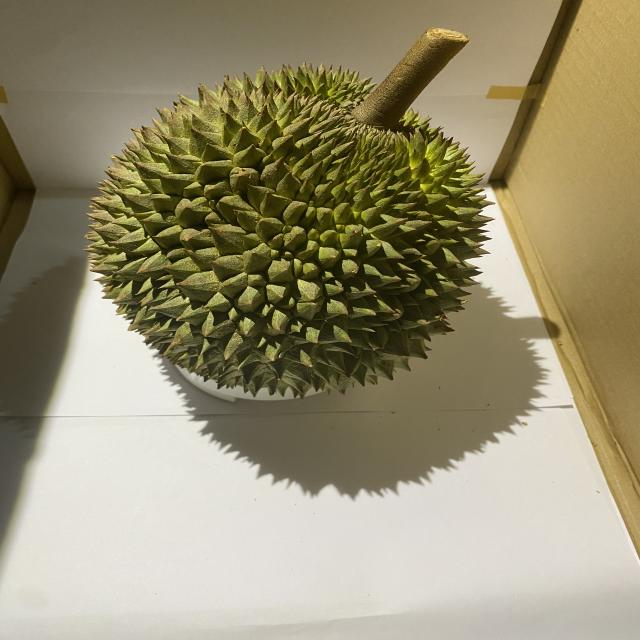immature: (88, 63, 500, 400)
